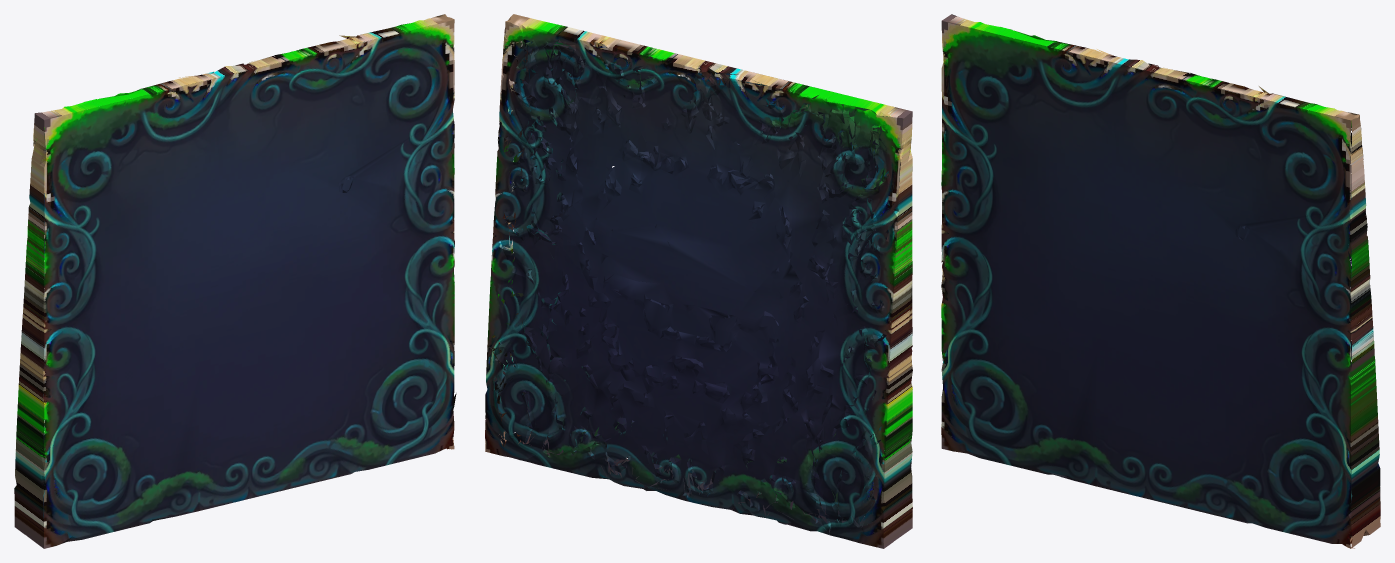
Rendered from board.glb.
3 renders of one model, left to right at view 1: azimuth 30°, elevation 25°; view 2: azimuth 150°, elevation 25°; view 3: azimuth 330°, elevation 25°, orthographic. The views are drawn at different scales.
Parts seen in each view (by area): view 1: Board; view 2: Board; view 3: Board.
Boxes of the visible parts, <box> form: Board: <box>14,14,456,548</box>; Board: <box>485,14,912,548</box>; Board: <box>941,14,1380,548</box>.
Bounding box in the file's own units: 0.9912 × 1 × 0.1447.
Materials: 1 (1 with a texture image).
